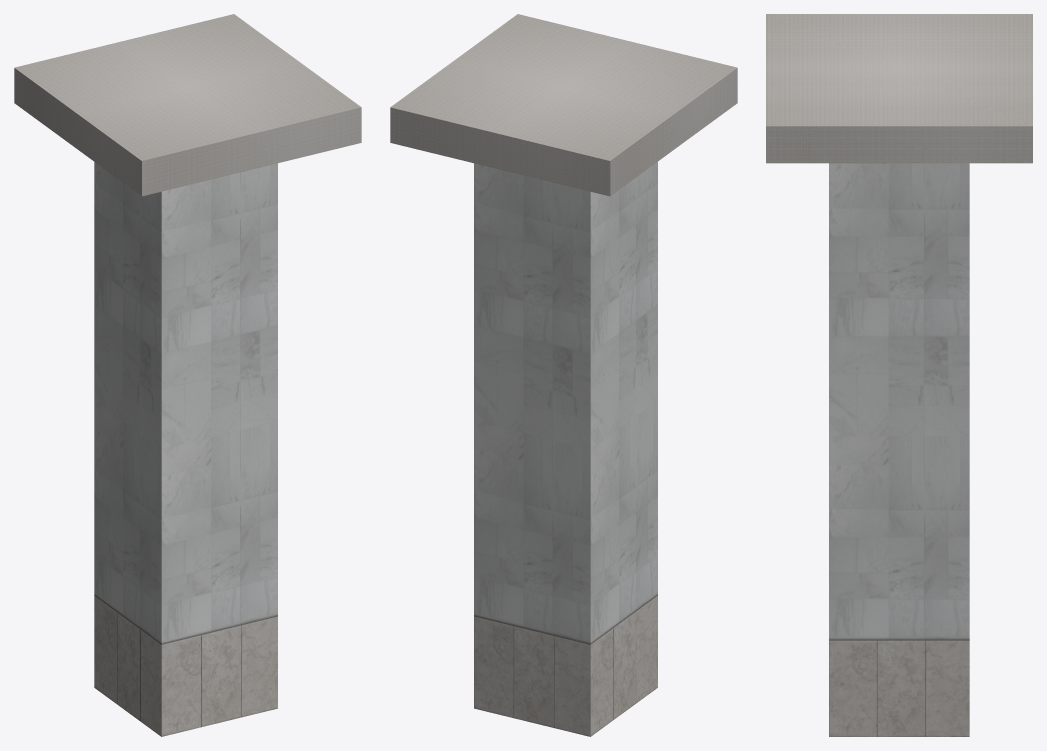
Rendered from Subway05_InterCalumn01.FBX.
The picture shows the model from 3 angles, left to right: view 1: azimuth 30°, elevation 25°; view 2: azimuth 150°, elevation 25°; view 3: azimuth 270°, elevation 25°; orthographic projection. The views are drawn at different scales.
Parts seen in each view (by area): view 1: Subway05_InterCalumn01, Subway05_InterCalumn02; view 2: Subway05_InterCalumn01, Subway05_InterCalumn02; view 3: Subway05_InterCalumn01, Subway05_InterCalumn02.
Boxes of the visible parts, <box> form: Subway05_InterCalumn01: <box>94,162,277,736</box>; Subway05_InterCalumn02: <box>14,14,361,196</box>; Subway05_InterCalumn01: <box>474,162,657,736</box>; Subway05_InterCalumn02: <box>390,14,737,196</box>; Subway05_InterCalumn01: <box>829,163,969,736</box>; Subway05_InterCalumn02: <box>766,14,1032,163</box>.
Bounding box in the file's own units: 2264 × 6001 × 2275.
